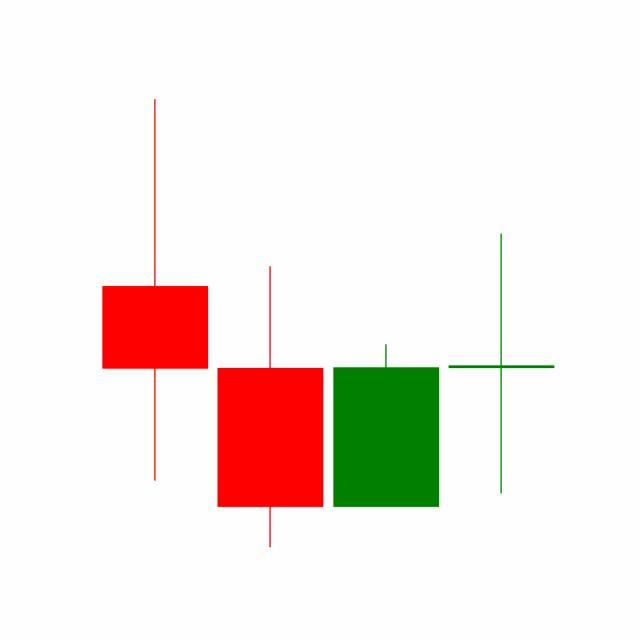Spinning Top: (444, 232, 560, 498)
